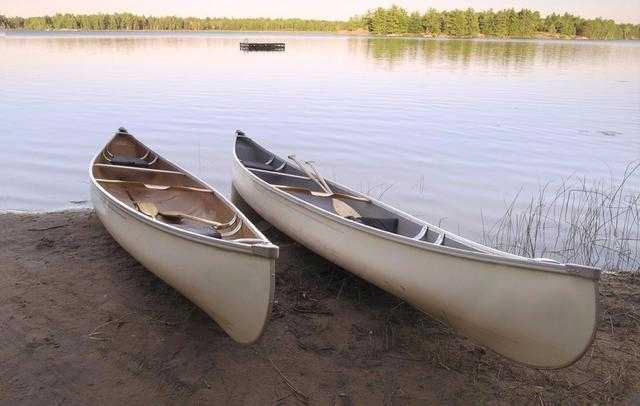kayak: (231, 128, 598, 369), (87, 126, 280, 347), (239, 40, 287, 51)
